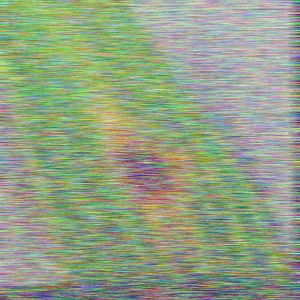Bacterial_Leaf_Blight: (111, 140, 176, 201)
